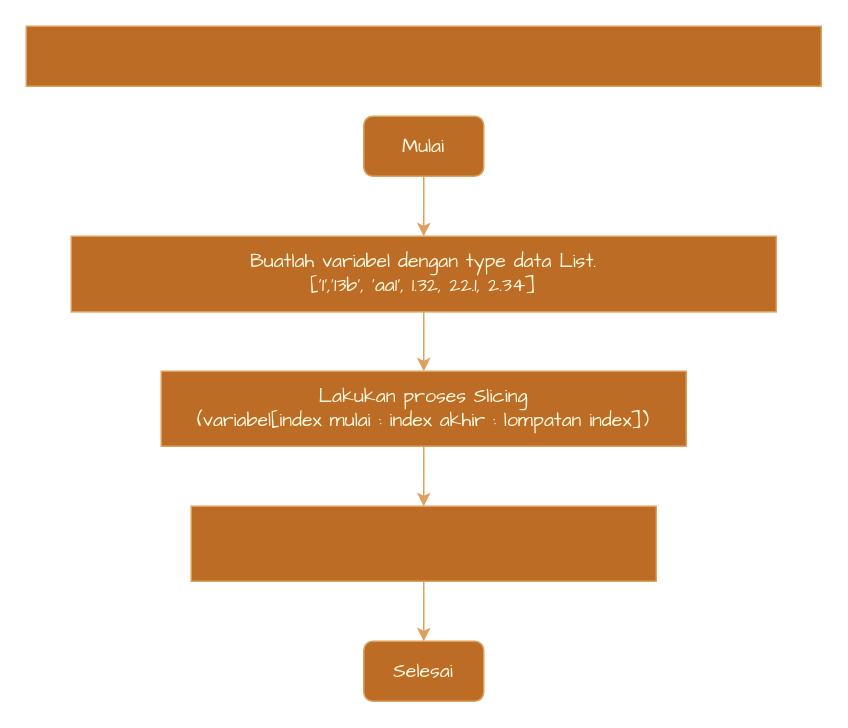
Image size: 848x728. Some labels were removed from this diagram. The centre of each missing label's shape, as x and y in pixels:
Flow Chart Soal 4: the point at 423,55
print (['13b', 'aa1', 1.32, 22.1]): the point at 423,543
